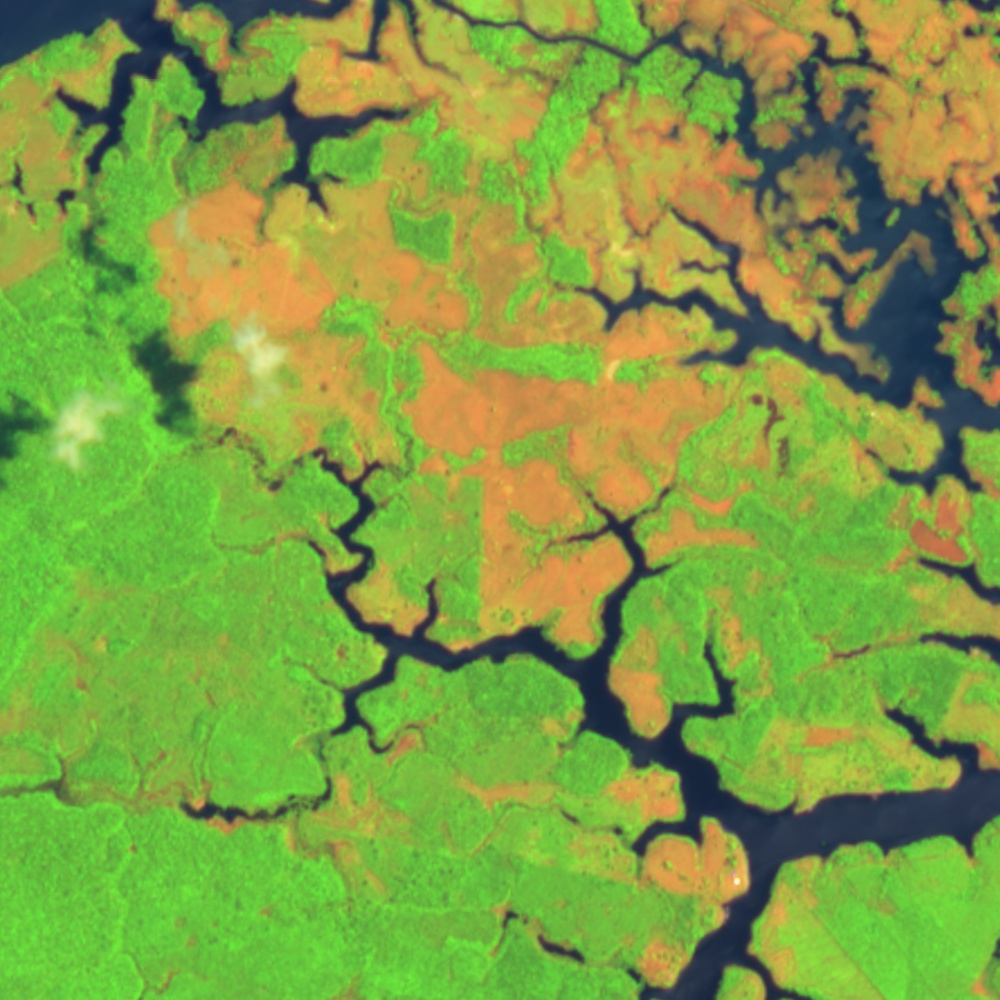legal: (519, 81, 1000, 428), (395, 340, 766, 644), (149, 179, 483, 466), (39, 754, 480, 892), (843, 378, 1000, 624), (1, 18, 139, 292), (350, 1, 550, 186), (152, 1, 427, 110), (625, 1, 1000, 78), (752, 713, 1000, 811), (565, 816, 754, 927), (489, 900, 690, 991), (535, 706, 684, 826), (268, 519, 401, 626), (133, 110, 299, 193), (744, 852, 828, 995), (699, 579, 785, 697), (803, 626, 1000, 677), (600, 618, 674, 744), (500, 1, 612, 49), (462, 771, 578, 807), (383, 129, 435, 195), (969, 937, 1000, 998)
